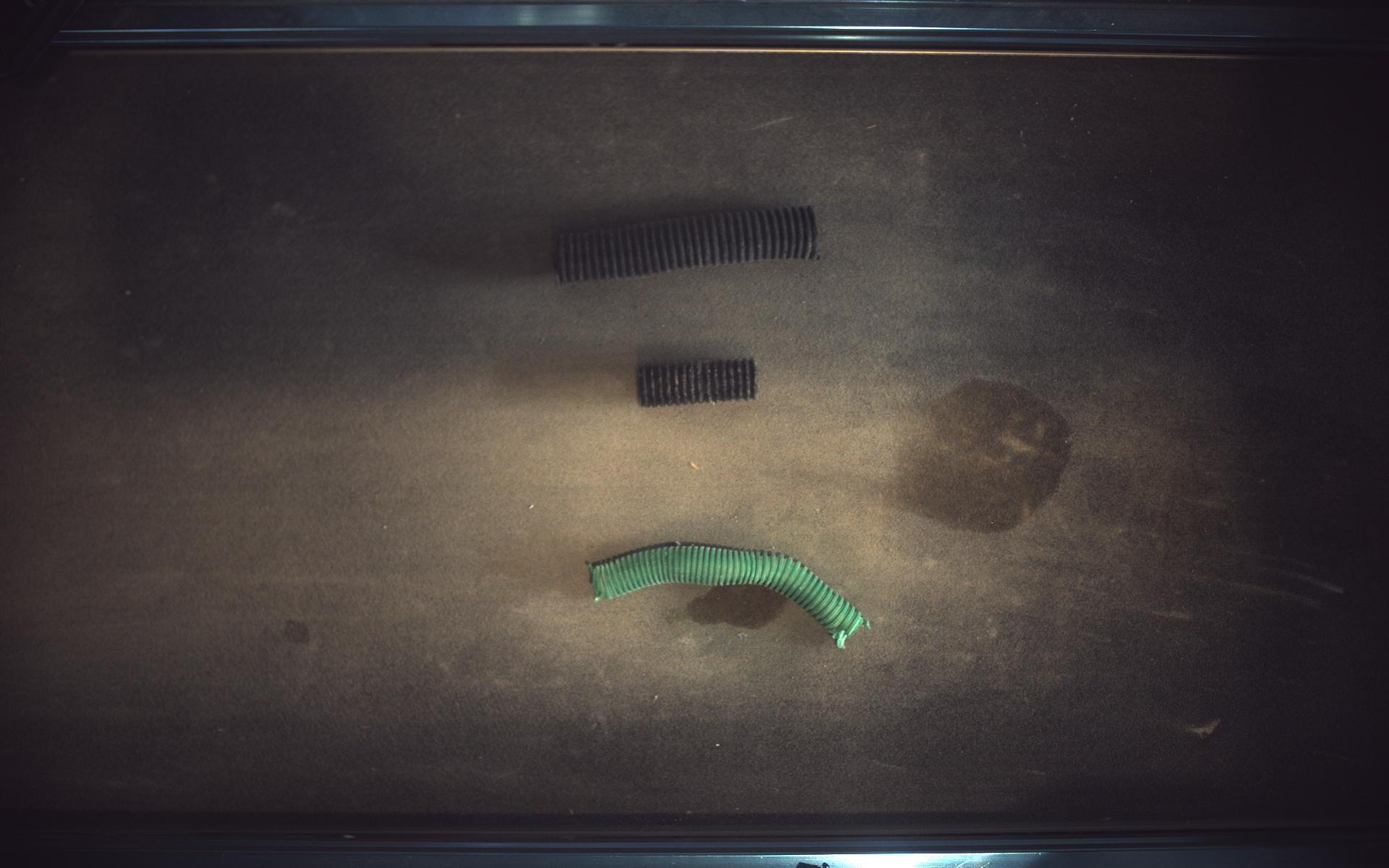pipes: (590, 544, 869, 649), (556, 205, 819, 283), (638, 358, 758, 407)
